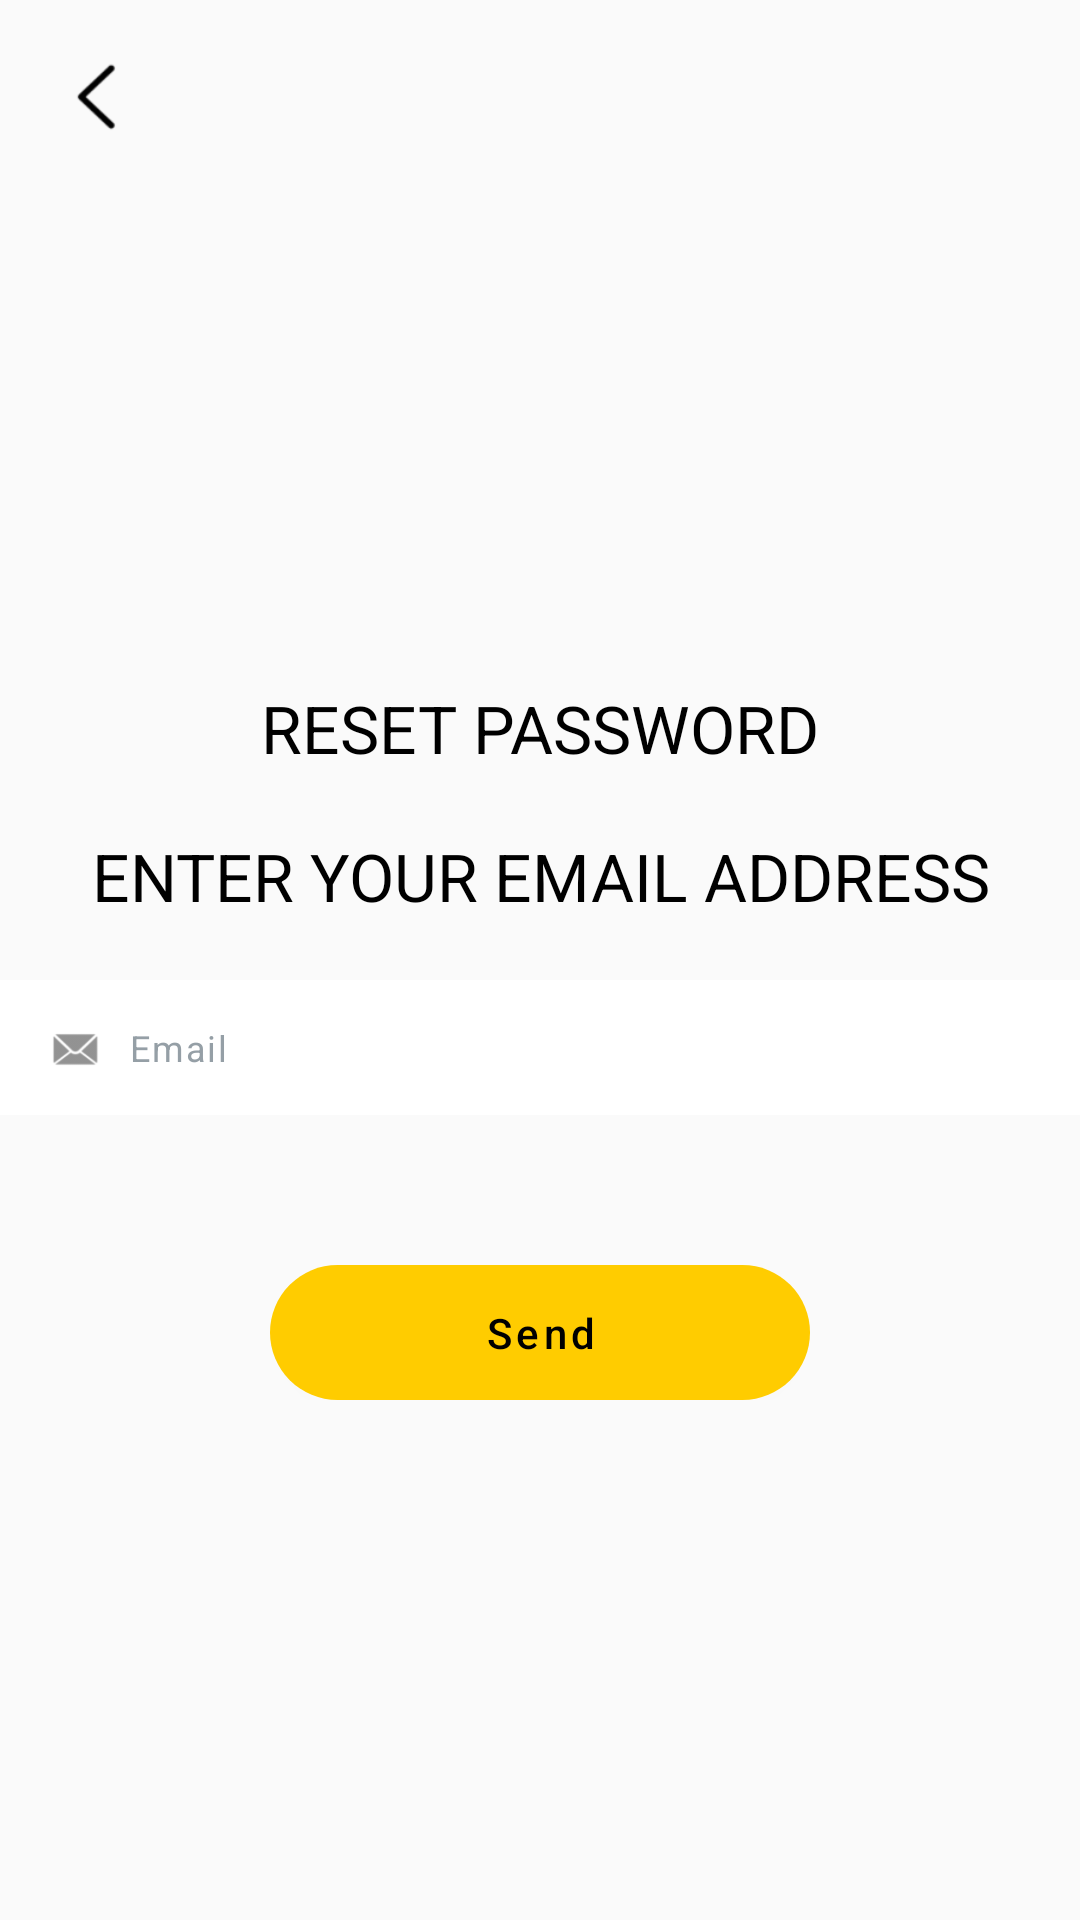

Screen size 1080w x 1920h. Icon name, then its center in pixels as (x=x, y=y):
back arrow: (x=96, y=96)
